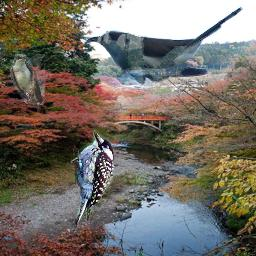Cuckoo: (85, 5, 248, 86)
Swallow: (10, 54, 45, 107)
Woodpecker: (60, 127, 121, 233)
